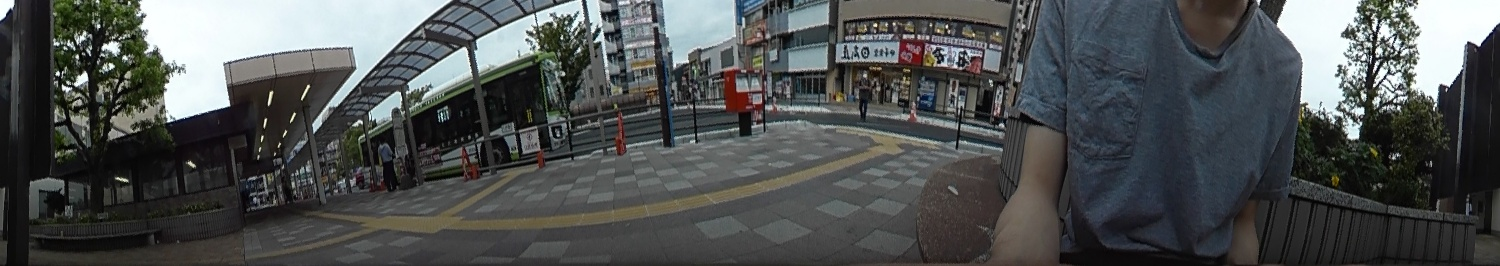difficult_person: (858, 69, 871, 123), (281, 172, 294, 203)
person: (377, 136, 398, 191)
